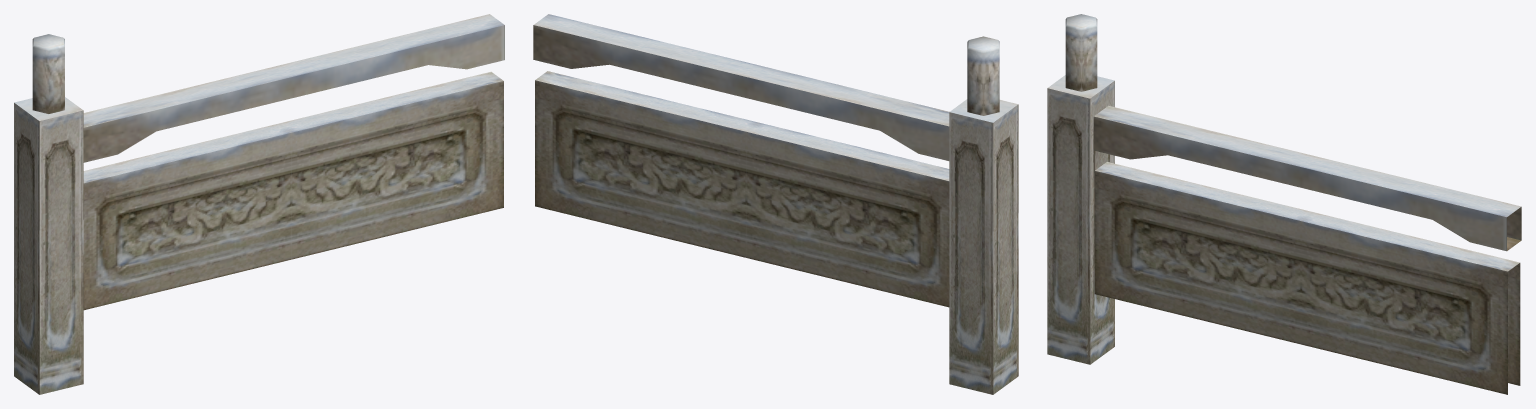
File: jz_langan_01.FBX
3 views of the same model, side by side, from view 1: azimuth 30°, elevation 25°; view 2: azimuth 150°, elevation 25°; view 3: azimuth 330°, elevation 25° (orthographic). The views are drawn at different scales.
Visible parts, largest first — view 1: jz_langan_01; view 2: jz_langan_01; view 3: jz_langan_01.
Boxes of the visible parts, box(x1,y1,x2,y2) form: jz_langan_01: box(14, 14, 504, 394); jz_langan_01: box(533, 14, 1018, 394); jz_langan_01: box(1047, 14, 1521, 394).
Size of the model in its own units: 188 by 130 by 17.68.
